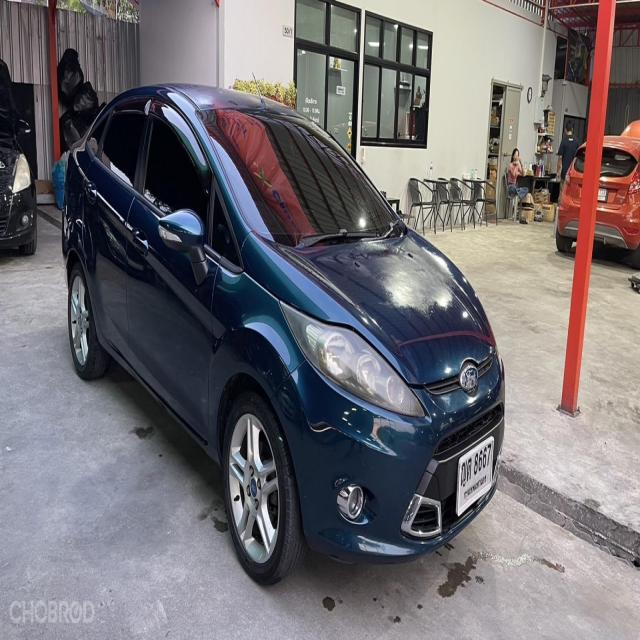license_plate: (454, 434, 496, 516)
